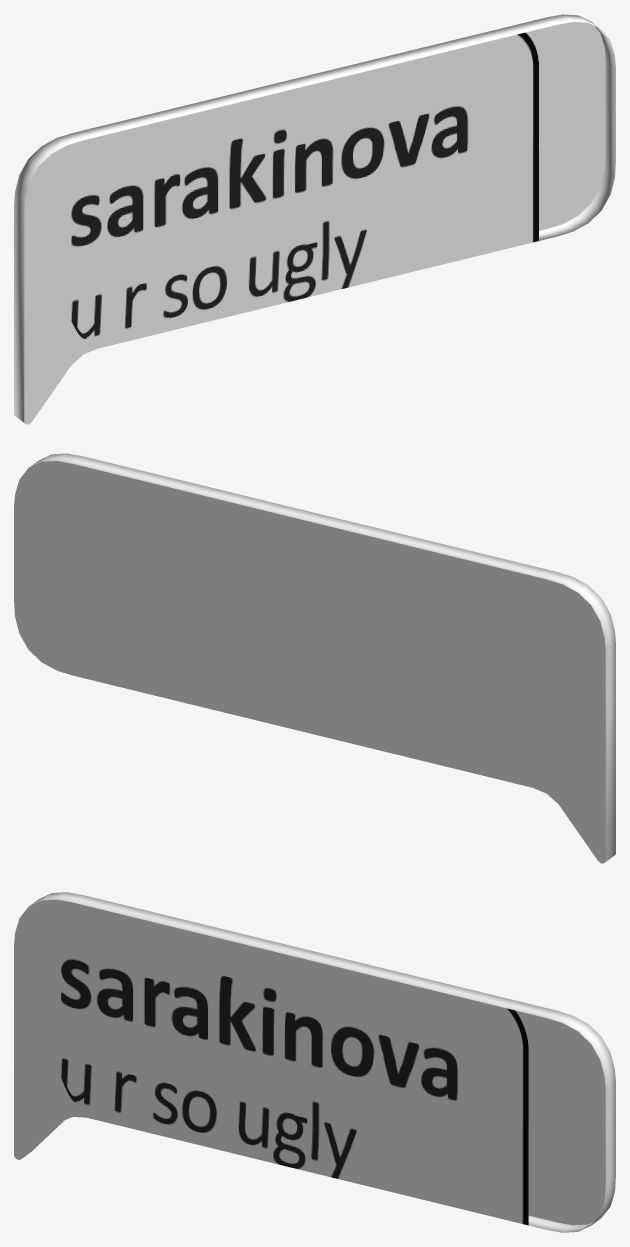
File: OLDEp5_Message-B.fbx
The picture shows the model from 3 angles, top to bottom: view 1: azimuth 30°, elevation 25°; view 2: azimuth 150°, elevation 25°; view 3: azimuth 330°, elevation 25°; orthographic projection.
Parts seen in each view (by area): view 1: Messages-B; view 2: Messages-B; view 3: Messages-B.
Boxes of the visible parts, x1=… form: Messages-B: x1=14, y1=14, x2=615, y2=424; Messages-B: x1=14, y1=453, x2=615, y2=863; Messages-B: x1=14, y1=892, x2=615, y2=1232.
Bounding box in the file's own units: 1047 × 458 × 31.43.
